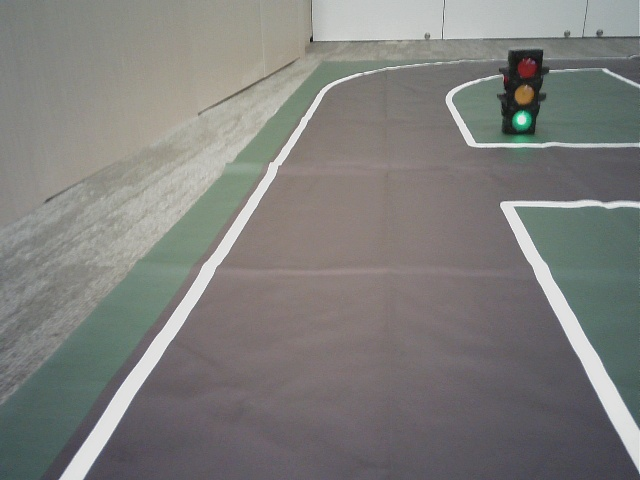green: (507, 54, 539, 128)
